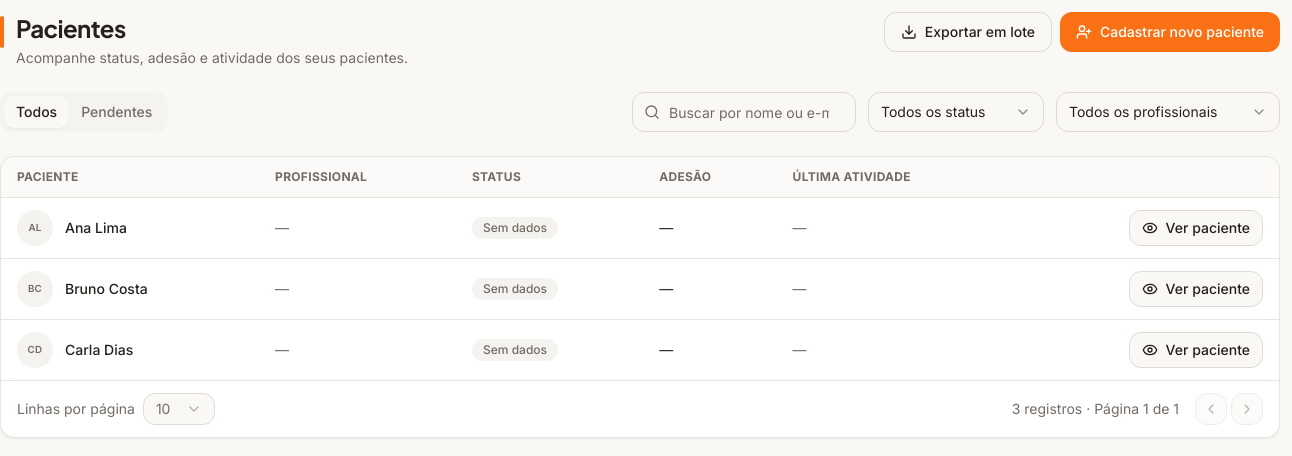
PatientsPage — busca por nome ou e-mail (WP-PATIENT-IDENTITY-POLISH-01) › nome, e-mail completo, parcial, maiúsculas; sem resultado; só a lista da clínica
Type "bruno" into the search field named "Buscar pacientes" at (744, 112), box [632,92,856,132]
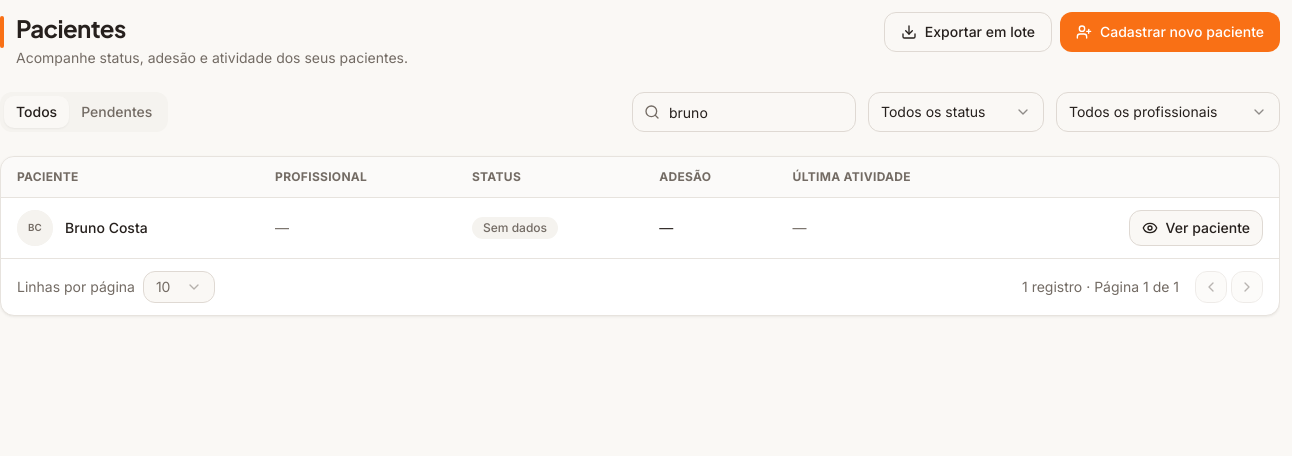
Replace the text in the search field named "Buscar pacientes" with "ana.lima@clinica.test" at (744, 112), box [632,92,856,132]
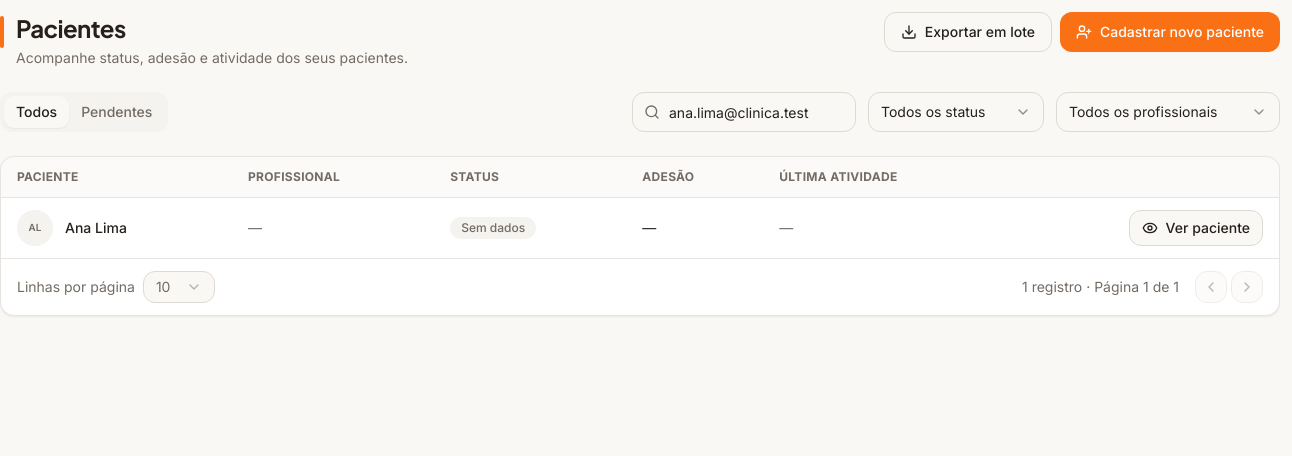
Replace the text in the search field named "Buscar pacientes" with "@outro" at (744, 112), box [632,92,856,132]
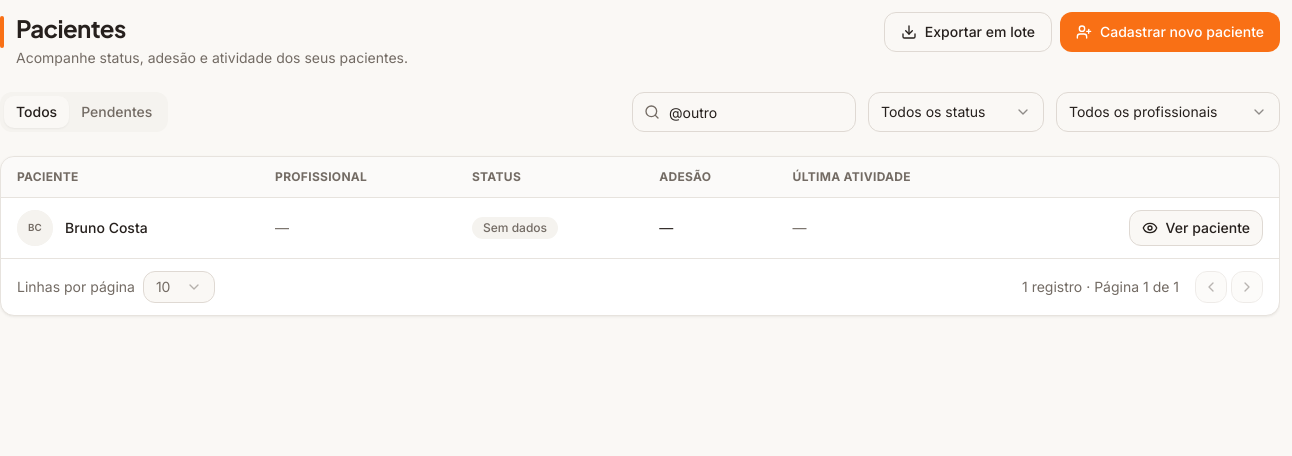
Replace the text in the search field named "Buscar pacientes" with "ANA.LIMA@CLINICA" at (744, 112), box [632,92,856,132]
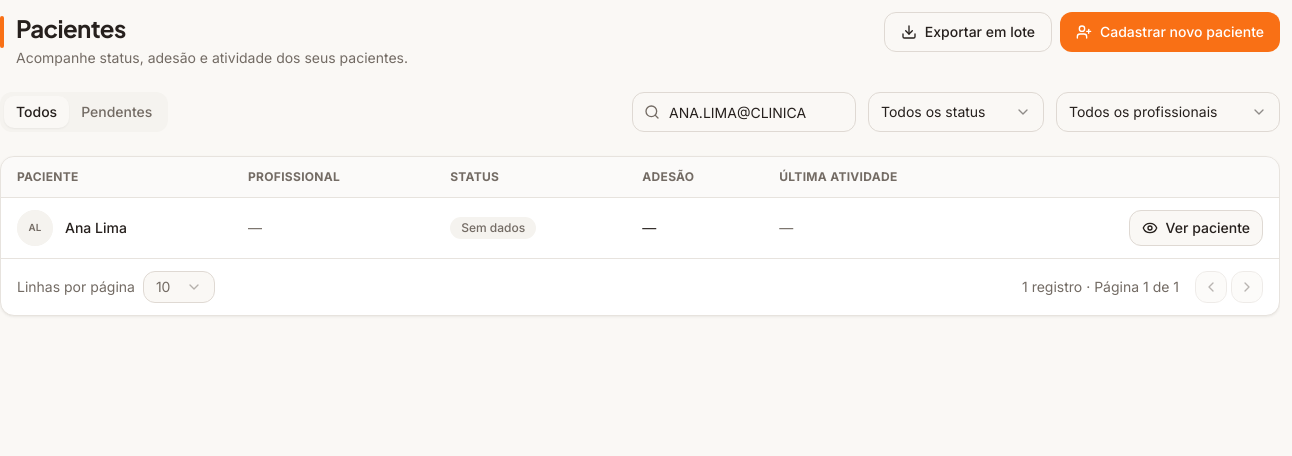
Replace the text in the search field named "Buscar pacientes" with "ninguem@nada.test" at (744, 112), box [632,92,856,132]
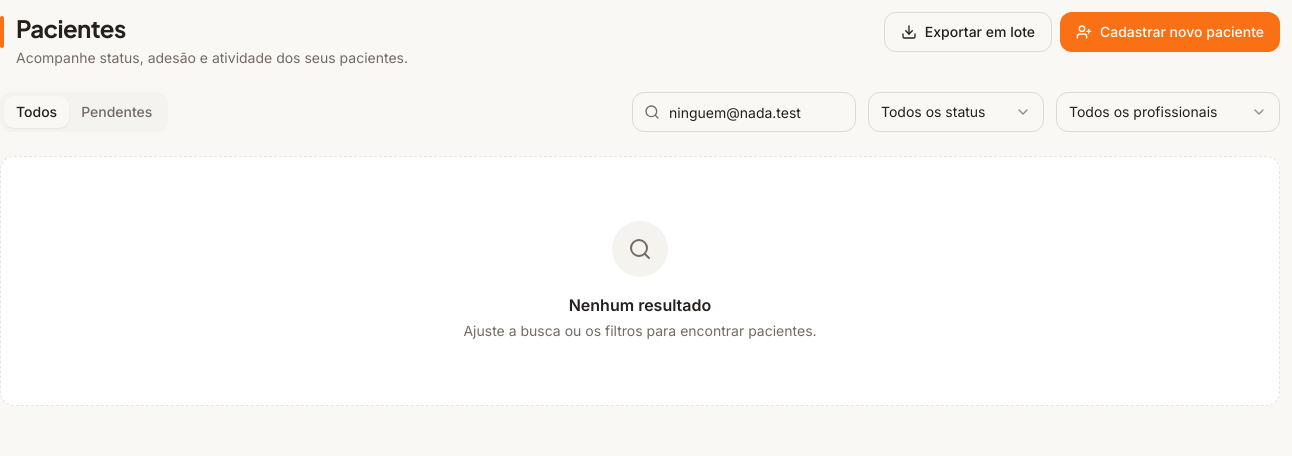
expect the heading "Nenhum resultado" is shown: met, box [569,293,711,317]
Clear the search field named "Buscar pacientes" at (744, 112), box [632,92,856,132]
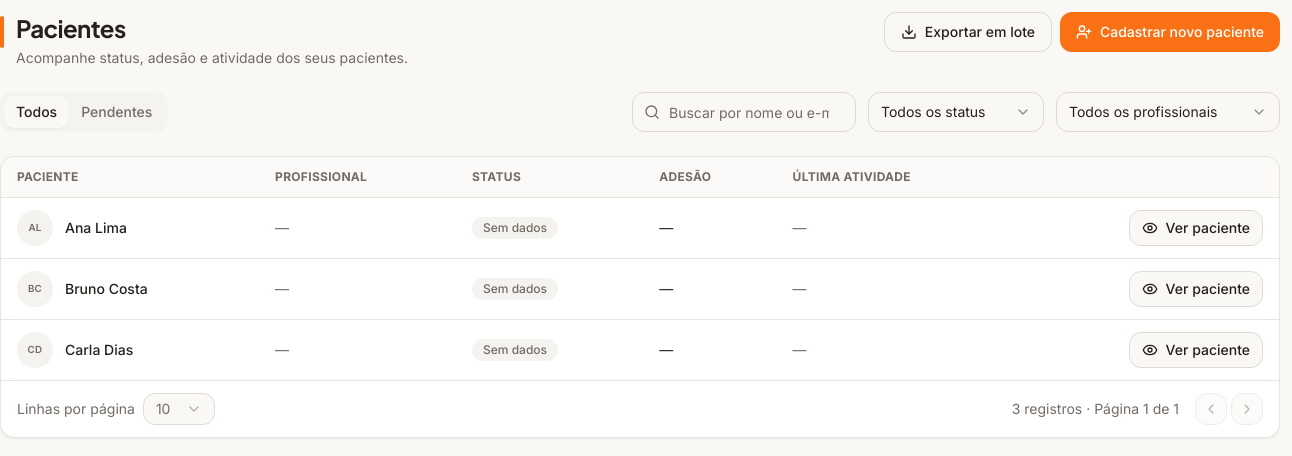
expect the number of buttons "Ver paciente " is 3: met, box [1129,210,1263,246]; [1129,271,1263,307]; [1129,332,1263,368]
